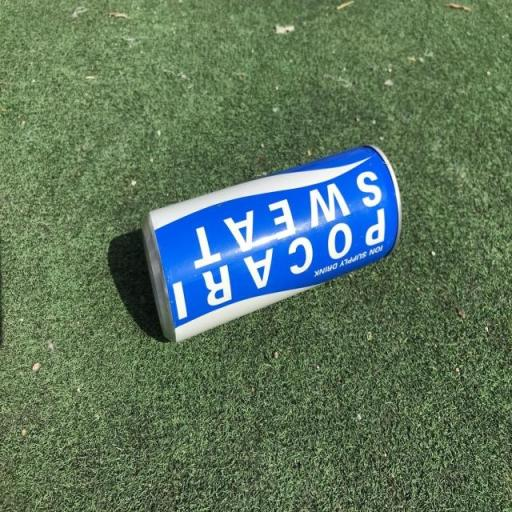metal: (122, 130, 410, 372)
